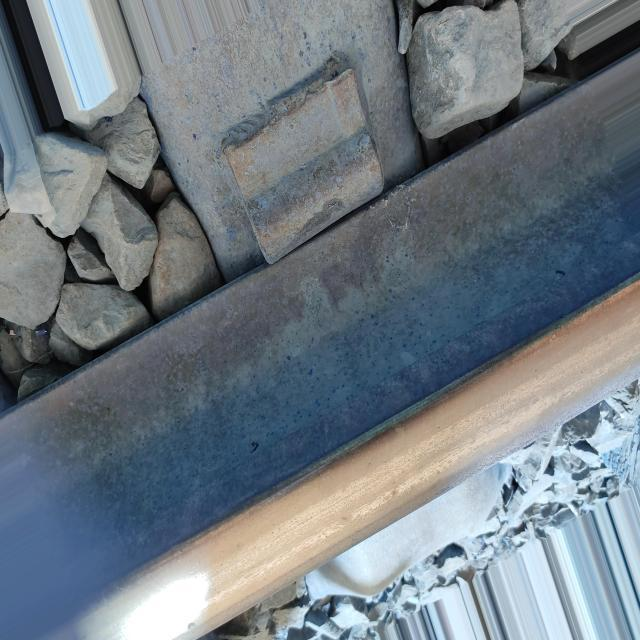Missing Fastener: (214, 49, 424, 288)
